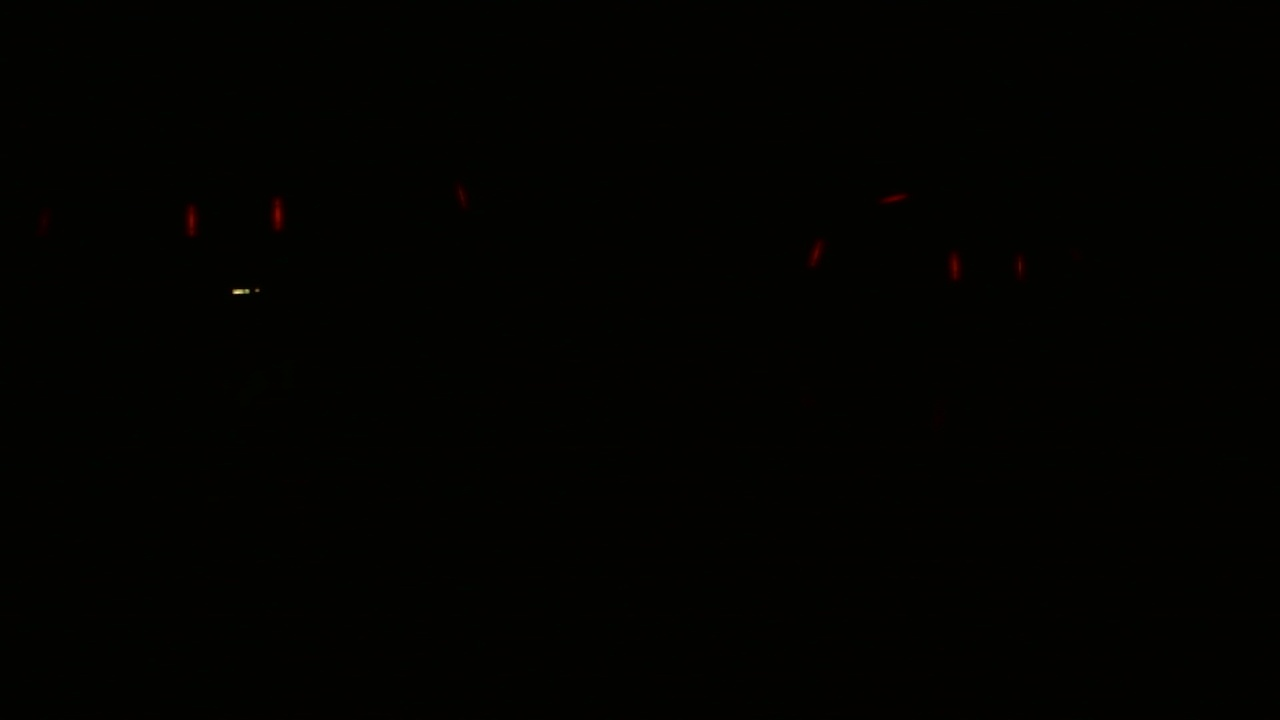pair1: (182, 201, 284, 233), (946, 250, 1030, 287)
